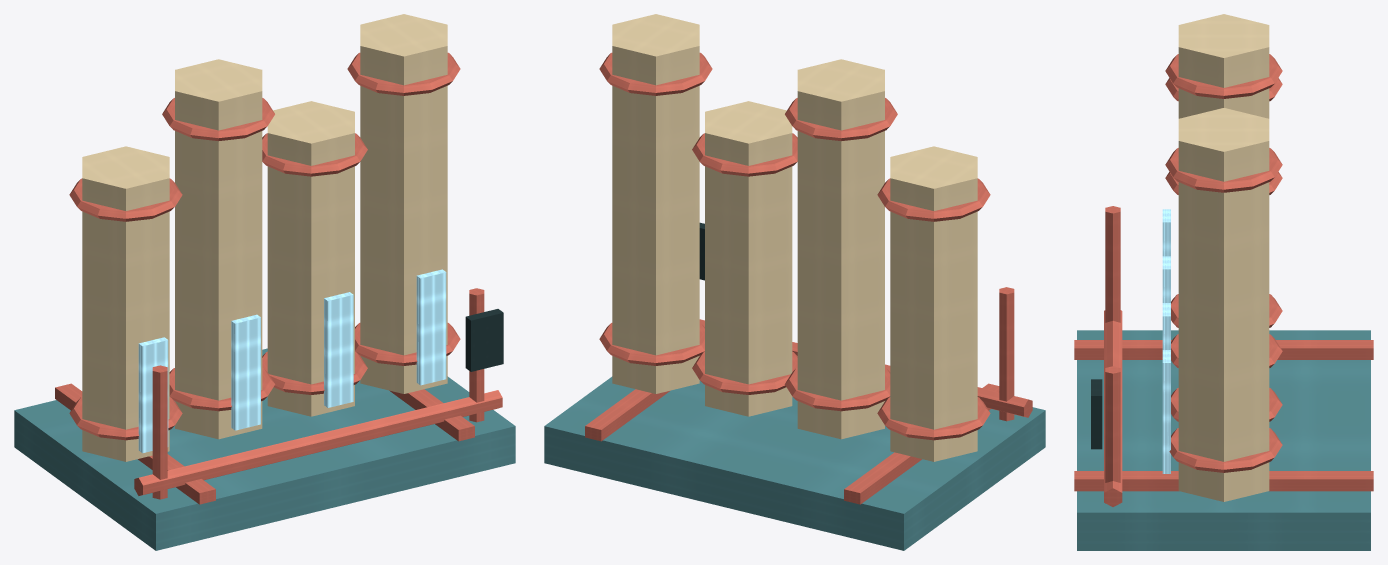
The model's file is atlas100-s075-a02.lod2.glb.
The picture shows the model from 3 angles, left to right: view 1: azimuth 30°, elevation 25°; view 2: azimuth 150°, elevation 25°; view 3: azimuth 270°, elevation 25°; orthographic projection. The views are drawn at different scales.
Parts seen in each view (by area): view 1: atlas100-s075-a02:part-000, atlas100-s075-a02:part-008, atlas100-s075-a02:part-018, atlas100-s075-a02:part-003, atlas100-s075-a02:part-013, atlas100-s075-a02:part-027, atlas100-s075-a02:part-022, atlas100-s075-a02:part-012, atlas100-s075-a02:part-017, atlas100-s075-a02:part-007, atlas100-s075-a02:part-026, atlas100-s075-a02:part-023 (+11 smaller); view 2: atlas100-s075-a02:part-000, atlas100-s075-a02:part-008, atlas100-s075-a02:part-018, atlas100-s075-a02:part-003, atlas100-s075-a02:part-013, atlas100-s075-a02:part-023, atlas100-s075-a02:part-001, atlas100-s075-a02:part-002, atlas100-s075-a02:part-005, atlas100-s075-a02:part-020, atlas100-s075-a02:part-004, atlas100-s075-a02:part-010 (+5 smaller); view 3: atlas100-s075-a02:part-000, atlas100-s075-a02:part-018, atlas100-s075-a02:part-008, atlas100-s075-a02:part-002, atlas100-s075-a02:part-001, atlas100-s075-a02:part-027, atlas100-s075-a02:part-023, atlas100-s075-a02:part-025, atlas100-s075-a02:part-020, atlas100-s075-a02:part-010, atlas100-s075-a02:part-019, atlas100-s075-a02:part-022 (+7 smaller).
Part boxes in pixels (box(x1,y1,x2,y2)): atlas100-s075-a02:part-000: box(14, 348, 515, 550); atlas100-s075-a02:part-008: box(175, 59, 262, 439); atlas100-s075-a02:part-018: box(360, 14, 447, 393); atlas100-s075-a02:part-003: box(82, 146, 169, 461); atlas100-s075-a02:part-013: box(267, 101, 354, 416); atlas100-s075-a02:part-027: box(134, 390, 502, 495); atlas100-s075-a02:part-022: box(416, 269, 446, 385); atlas100-s075-a02:part-012: box(231, 314, 260, 430); atlas100-s075-a02:part-017: box(324, 292, 353, 407); atlas100-s075-a02:part-007: box(138, 337, 168, 453); atlas100-s075-a02:part-026: box(465, 309, 503, 371); atlas100-s075-a02:part-023: box(152, 365, 167, 499); atlas100-s075-a02:part-000: box(544, 376, 1045, 550); atlas100-s075-a02:part-008: box(797, 59, 884, 439); atlas100-s075-a02:part-018: box(612, 14, 699, 393); atlas100-s075-a02:part-003: box(890, 146, 977, 461); atlas100-s075-a02:part-013: box(705, 101, 792, 416); atlas100-s075-a02:part-023: box(999, 287, 1014, 421); atlas100-s075-a02:part-001: box(844, 383, 999, 504); atlas100-s075-a02:part-002: box(585, 389, 670, 441); atlas100-s075-a02:part-005: box(877, 178, 990, 221); atlas100-s075-a02:part-020: box(599, 52, 712, 95); atlas100-s075-a02:part-004: box(877, 397, 990, 440); atlas100-s075-a02:part-010: box(785, 98, 897, 141); atlas100-s075-a02:part-000: box(1077, 330, 1370, 550); atlas100-s075-a02:part-018: box(1178, 108, 1269, 501); atlas100-s075-a02:part-008: box(1178, 14, 1269, 118); atlas100-s075-a02:part-002: box(1074, 471, 1373, 491); atlas100-s075-a02:part-001: box(1074, 340, 1373, 359); atlas100-s075-a02:part-027: box(1104, 310, 1122, 506); atlas100-s075-a02:part-023: box(1105, 206, 1120, 322); atlas100-s075-a02:part-025: box(1105, 366, 1120, 482); atlas100-s075-a02:part-020: box(1165, 148, 1282, 192); atlas100-s075-a02:part-010: box(1165, 54, 1282, 98); atlas100-s075-a02:part-019: box(1169, 428, 1282, 472); atlas100-s075-a02:part-022: box(1162, 350, 1170, 473).
Size of the model in its own units: 2.76 by 2.71 by 1.84.
Materials: 5 (5 with a texture image).
